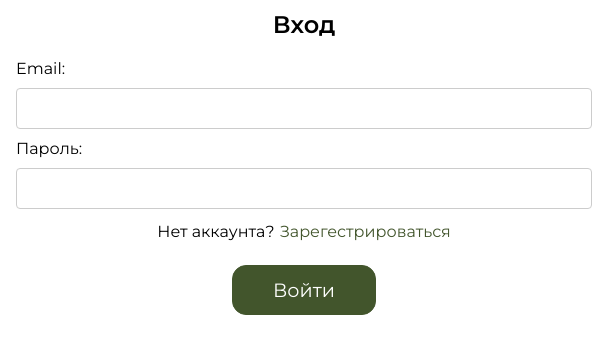
Login › displays error message on login failure
Type "u@v.com" into the field at (304, 108), box [16,88,592,129]
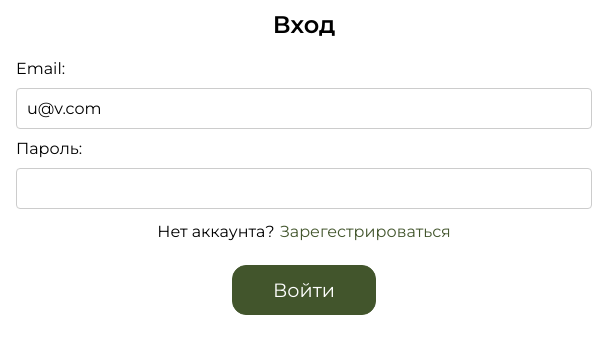
Type "1234" into the password field at (304, 188), box [16,168,592,209]
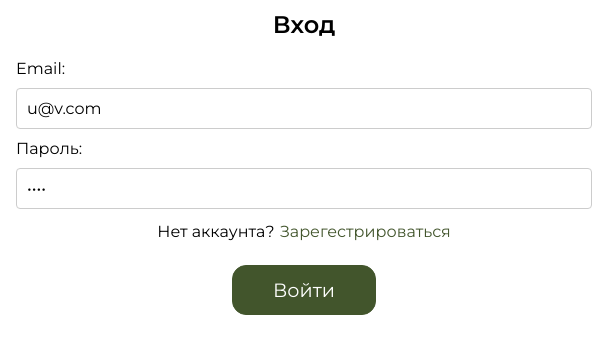
Click the button "Войти" at (304, 290), box [232,265,376,315]
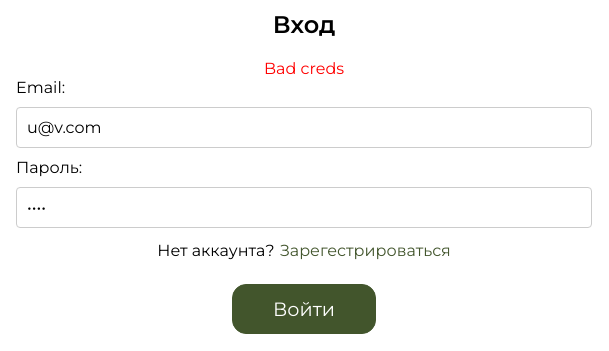
Result: the text "Bad creds" is shown at [264,59,344,78]
